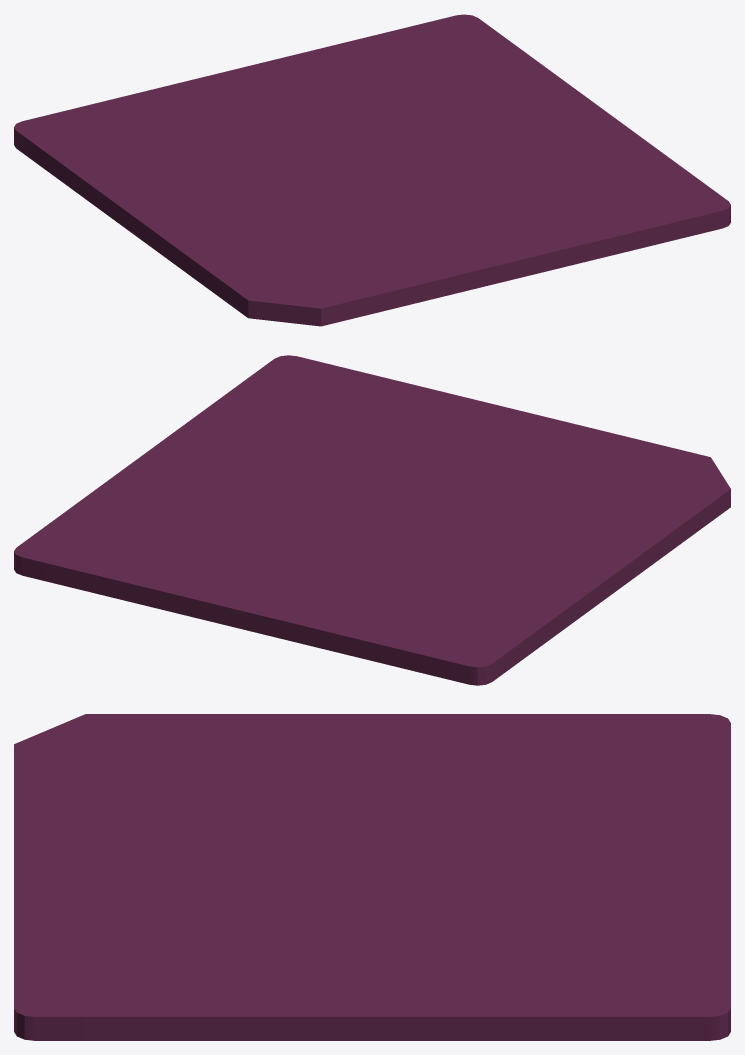
File: FloppyDisk.fbx
3 renders of one model, top to bottom at view 1: azimuth 30°, elevation 25°; view 2: azimuth 150°, elevation 25°; view 3: azimuth 270°, elevation 25°, orthographic. The views are drawn at different scales.
Parts seen in each view (by area): view 1: FloppyDisk; view 2: FloppyDisk; view 3: FloppyDisk.
Boxes of the visible parts, x1=… form: FloppyDisk: x1=14, y1=14, x2=730, y2=326; FloppyDisk: x1=14, y1=355, x2=730, y2=685; FloppyDisk: x1=14, y1=714, x2=730, y2=1040.
Bounding box in the file's own units: 1.44 × 0.0532 × 1.44.
